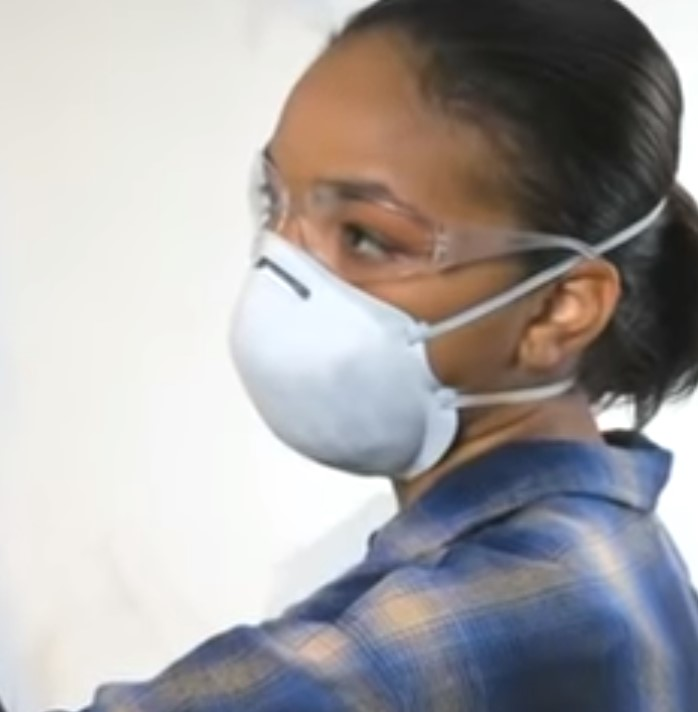face_with_mask: (226, 3, 698, 484)
